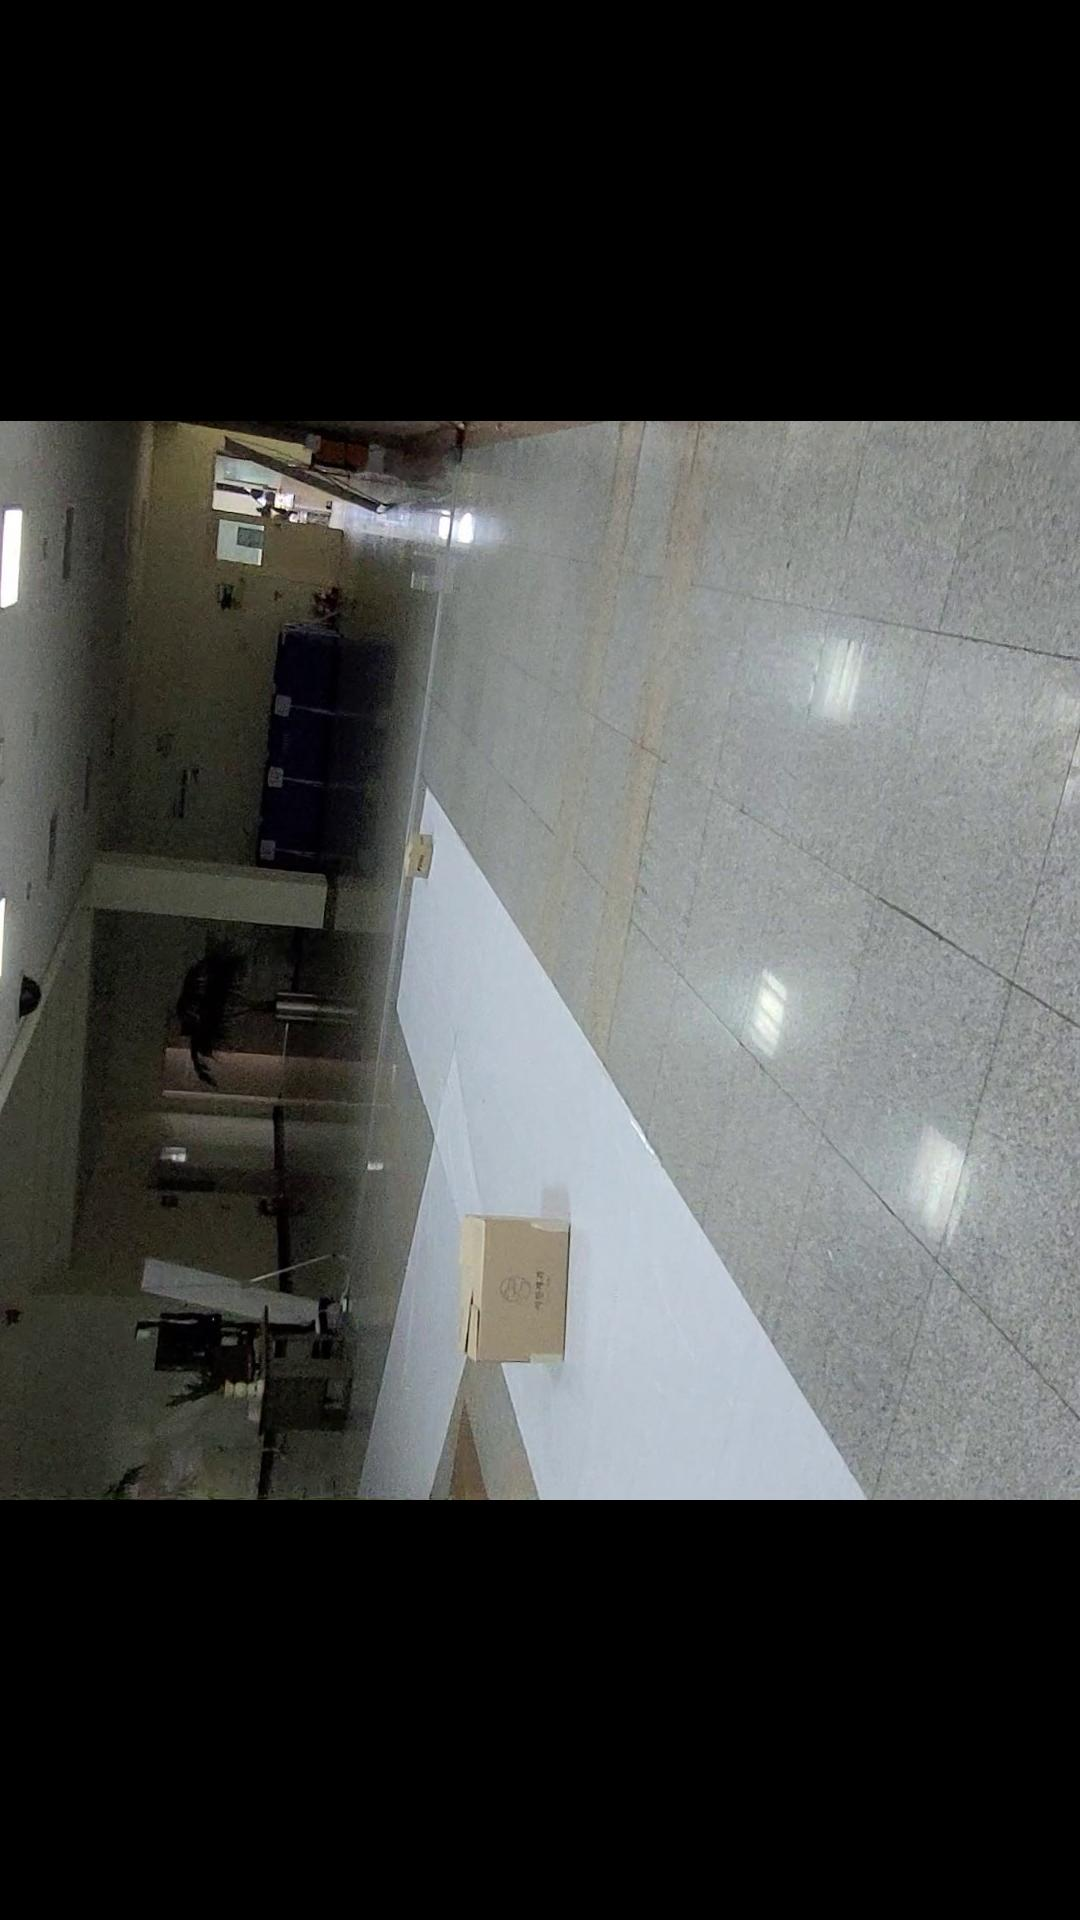Box: (430, 1185, 589, 1394), (382, 814, 458, 907)
